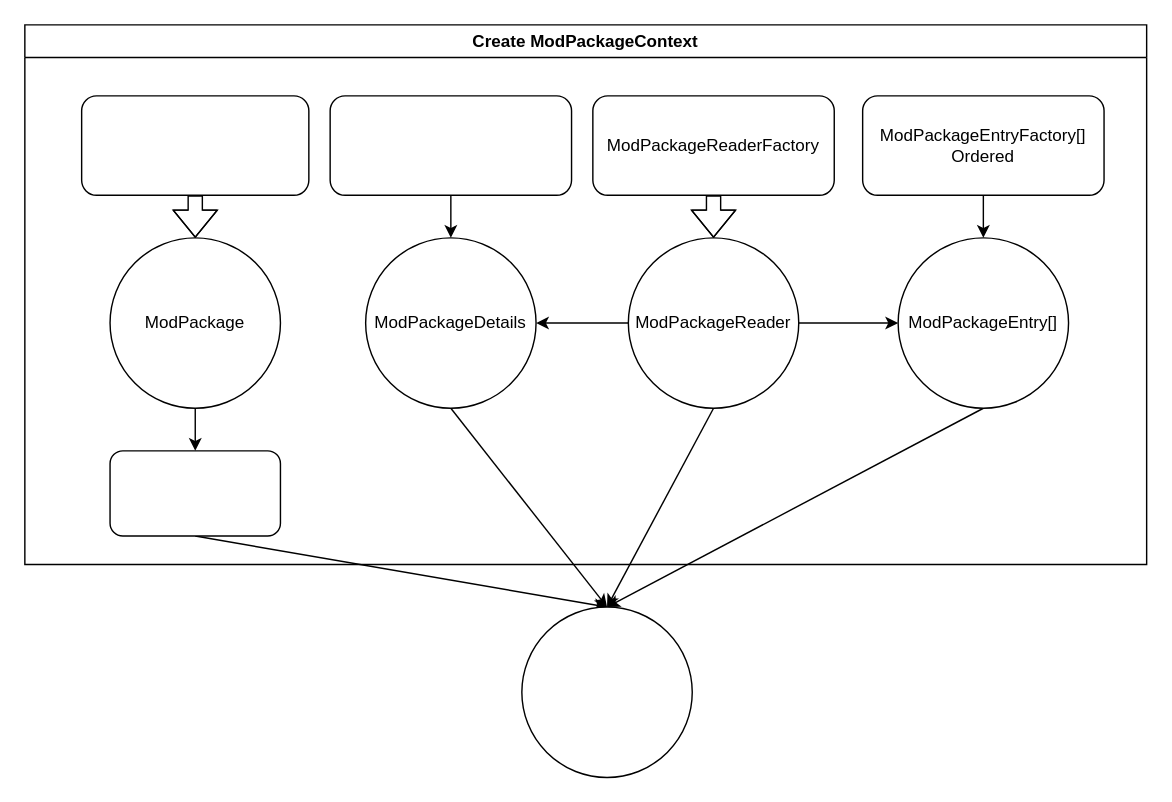
Image size: 1172x802. Some labels were removed from this diagram. Here are the shapes that lost their labels. From the top down, the centre of each, then its label:
At pixel 194 144: "ModPackageFactory[]".
At pixel 450 144: "ModPackageDetailsParser".
At pixel 194 492: "Load ClassPath".
At pixel 606 691: "ModPackageContext".
